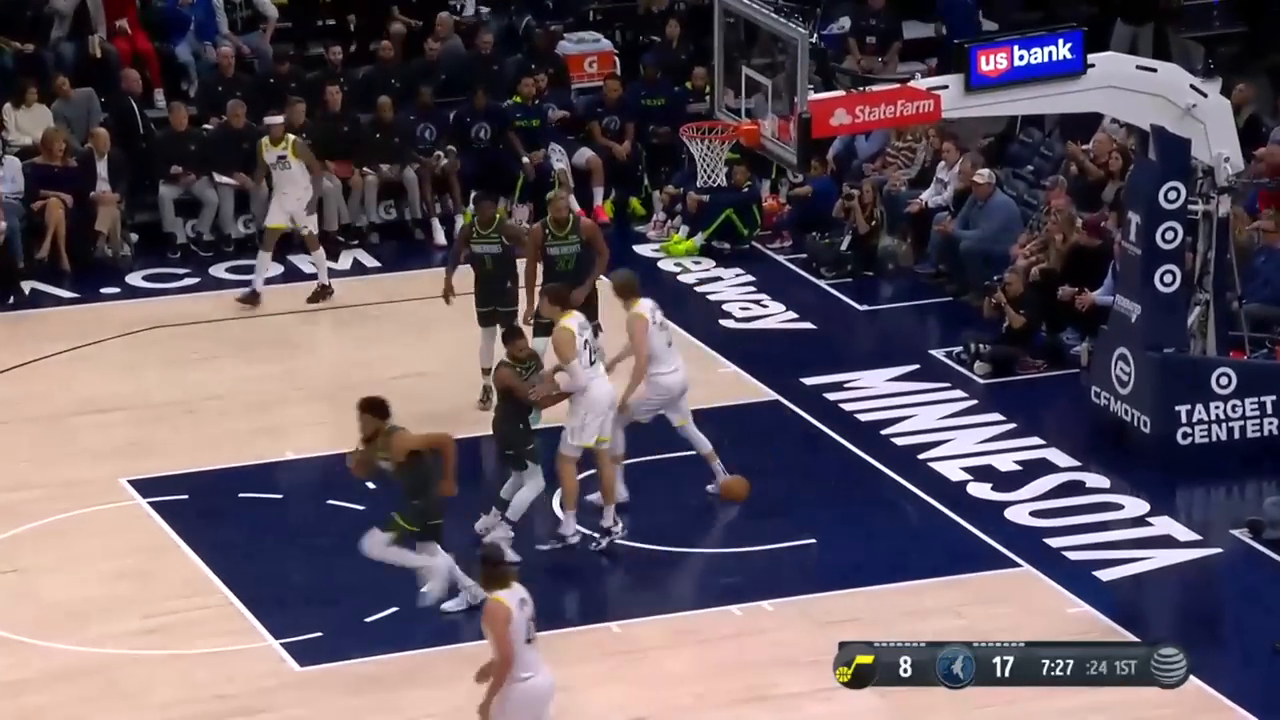ball: (717, 471, 754, 508)
net: (676, 118, 742, 190)
